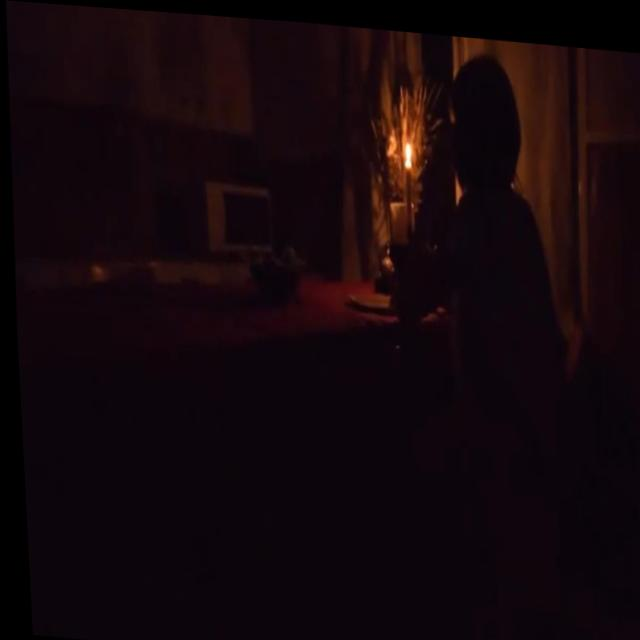fire: (399, 130, 414, 161)
